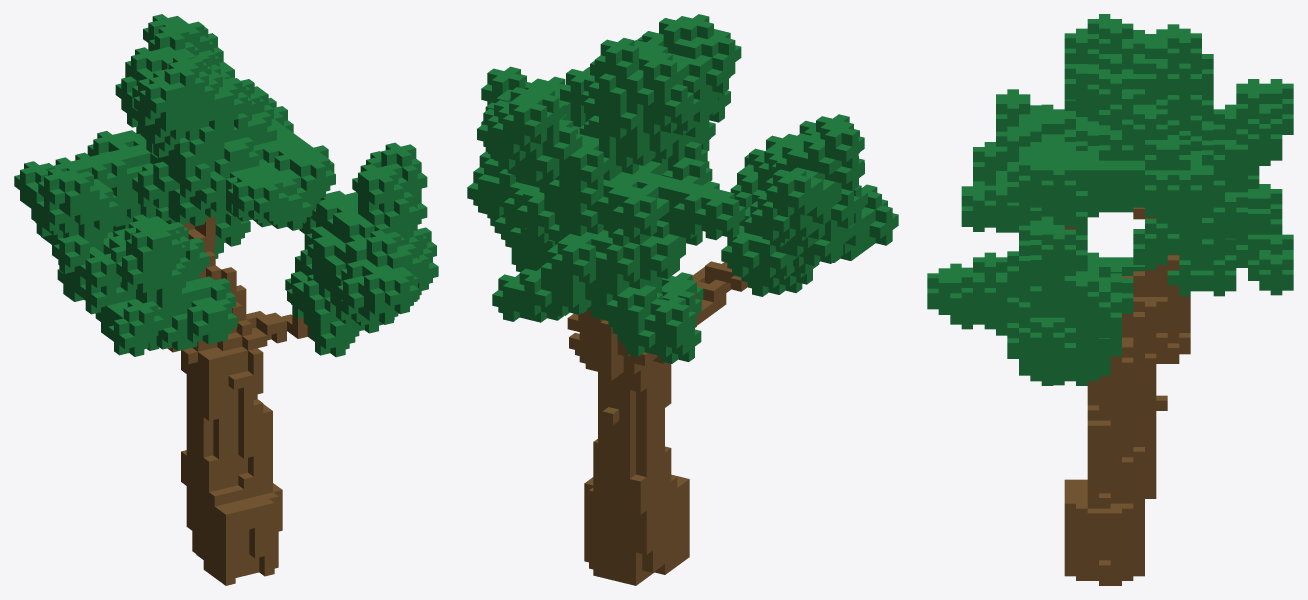
The model's file is arbol_07.fbx.
3 views of the same model, side by side, from view 1: azimuth 30°, elevation 25°; view 2: azimuth 150°, elevation 25°; view 3: azimuth 270°, elevation 25° (orthographic). The views are drawn at different scales.
Parts seen in each view (by area): view 1: _arbol07; view 2: _arbol07; view 3: _arbol07.
Part boxes in pixels (bbox=[...]): _arbol07: bbox=[14, 14, 438, 585]; _arbol07: bbox=[467, 14, 898, 585]; _arbol07: bbox=[927, 14, 1293, 585].
Bounding box in the file's own units: 370 × 500 × 320.
1 material, 1 textured.
